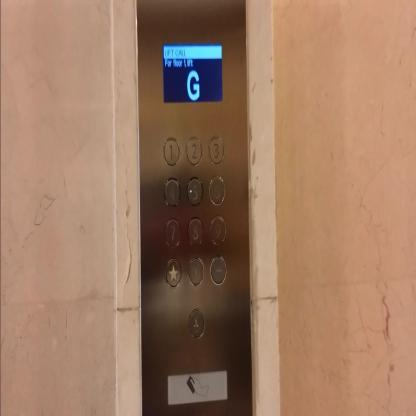-: (209, 252, 227, 286)
1: (162, 134, 180, 167)
2: (184, 133, 203, 167)
3: (207, 134, 225, 166)
4: (163, 175, 181, 208)
5: (185, 174, 204, 207)
6: (207, 174, 226, 206)
7: (163, 216, 182, 250)
8: (186, 215, 204, 248)
9: (208, 213, 226, 247)
blur: (186, 254, 205, 288)
led: (161, 40, 223, 105)
s: (164, 254, 182, 288)
unknown: (188, 306, 206, 339)
